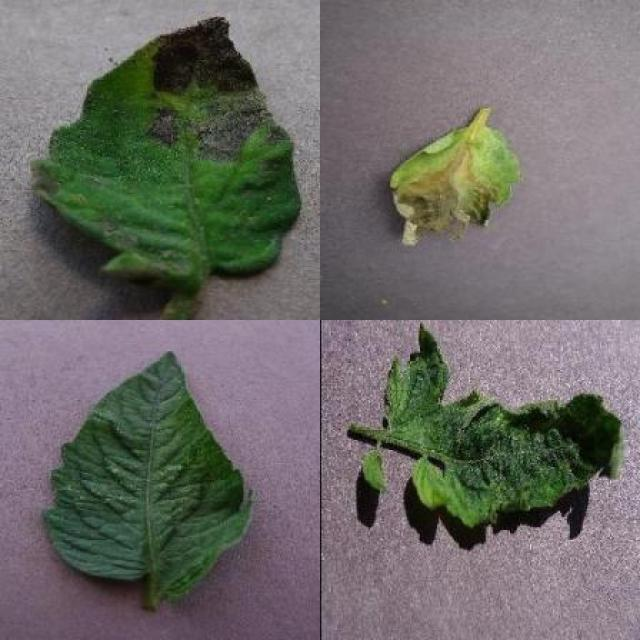Early Blight: (32, 17, 304, 290)
Late Blight: (386, 122, 520, 247)
Mosaic Virus: (382, 322, 625, 532)
Spider Mites: (42, 348, 255, 602)
